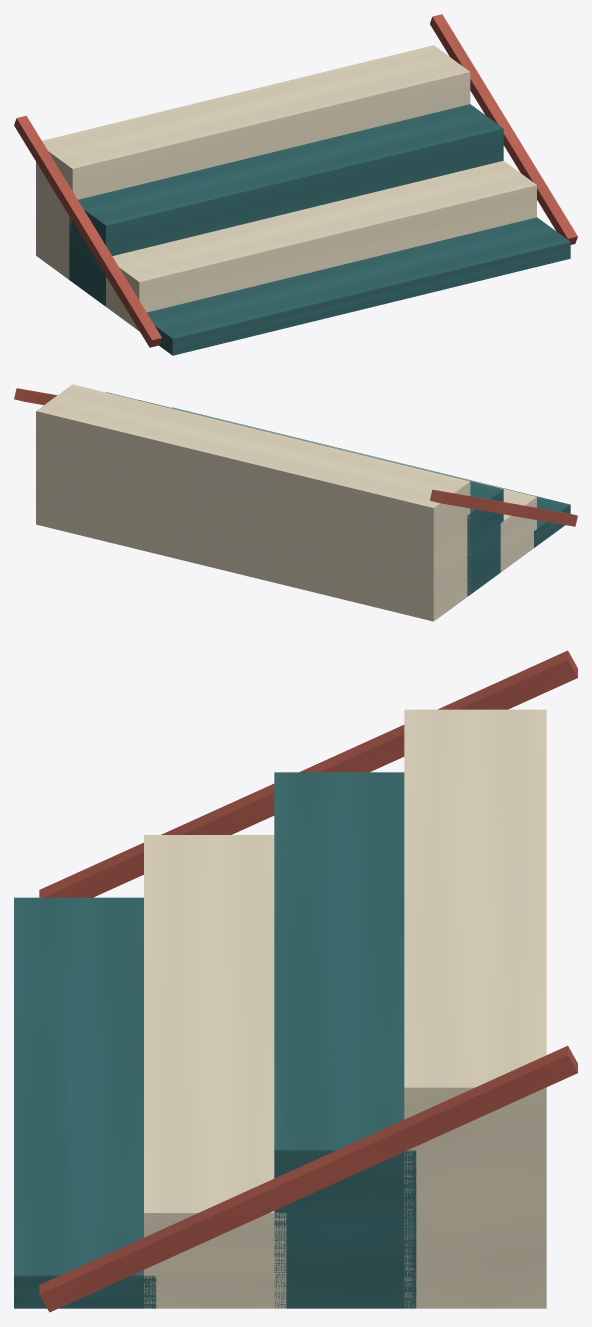
File: atlas100-s031-a10.glb
The picture shows the model from 3 angles, top to bottom: view 1: azimuth 30°, elevation 25°; view 2: azimuth 150°, elevation 25°; view 3: azimuth 270°, elevation 25°; orthographic projection. The views are drawn at different scales.
Parts seen in each view (by area): view 1: atlas100-s031-a10:part-003, atlas100-s031-a10:part-002, atlas100-s031-a10:part-001, atlas100-s031-a10:part-000, atlas100-s031-a10:part-004, atlas100-s031-a10:part-005; view 2: atlas100-s031-a10:part-003, atlas100-s031-a10:part-002, atlas100-s031-a10:part-001, atlas100-s031-a10:part-004, atlas100-s031-a10:part-000, atlas100-s031-a10:part-005; view 3: atlas100-s031-a10:part-003, atlas100-s031-a10:part-002, atlas100-s031-a10:part-001, atlas100-s031-a10:part-000, atlas100-s031-a10:part-005, atlas100-s031-a10:part-004.
Part boxes in pixels (left/top/right/bottom): atlas100-s031-a10:part-003: left=36, top=45, right=470, bottom=279; atlas100-s031-a10:part-002: left=69, top=104, right=503, bottom=306; atlas100-s031-a10:part-001: left=106, top=160, right=536, bottom=330; atlas100-s031-a10:part-000: left=137, top=217, right=570, bottom=355; atlas100-s031-a10:part-004: left=14, top=115, right=161, bottom=347; atlas100-s031-a10:part-005: left=430, top=14, right=577, bottom=244; atlas100-s031-a10:part-003: left=36, top=384, right=470, bottom=621; atlas100-s031-a10:part-002: left=106, top=392, right=503, bottom=596; atlas100-s031-a10:part-001: left=139, top=400, right=536, bottom=572; atlas100-s031-a10:part-004: left=430, top=489, right=577, bottom=526; atlas100-s031-a10:part-000: left=172, top=407, right=570, bottom=547; atlas100-s031-a10:part-005: left=14, top=388, right=56, bottom=404; atlas100-s031-a10:part-003: left=404, top=709, right=546, bottom=1308; atlas100-s031-a10:part-002: left=274, top=772, right=416, bottom=1308; atlas100-s031-a10:part-001: left=144, top=835, right=286, bottom=1308; atlas100-s031-a10:part-000: left=14, top=897, right=156, bottom=1308; atlas100-s031-a10:part-005: left=39, top=1045, right=577, bottom=1312; atlas100-s031-a10:part-004: left=39, top=650, right=577, bottom=897.
Size of the model in its own units: 2.36 by 0.7246 by 1.39.
3 materials, 3 textured.
